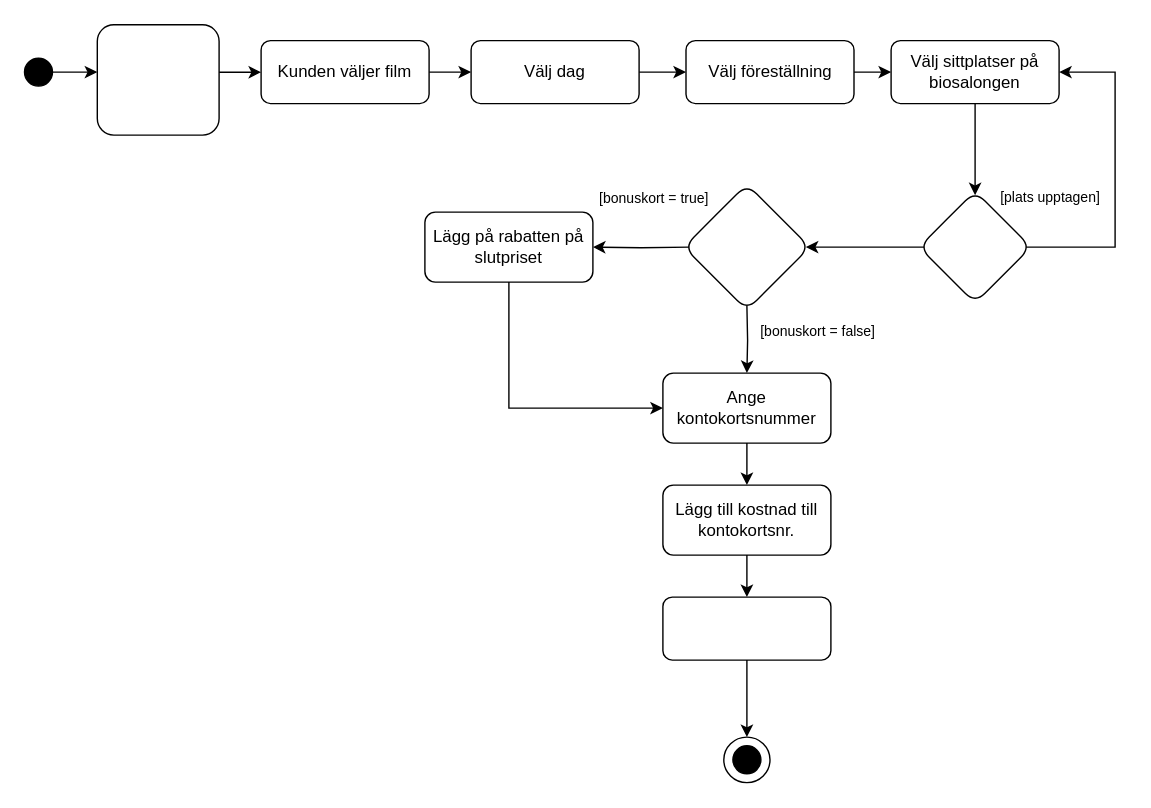
Image size: 1151x808. Some labels were removed from this diagram. The shapes that lost their labels are listed below. From the top down, each one's centre as x and y in pixels, then its label:
(157,79): Deklarera bonuskort, kontonummer, rabatt
(746,246): Kontrollera om kunden har bonuskort
(746,628): Skriv ut bekräftelse
